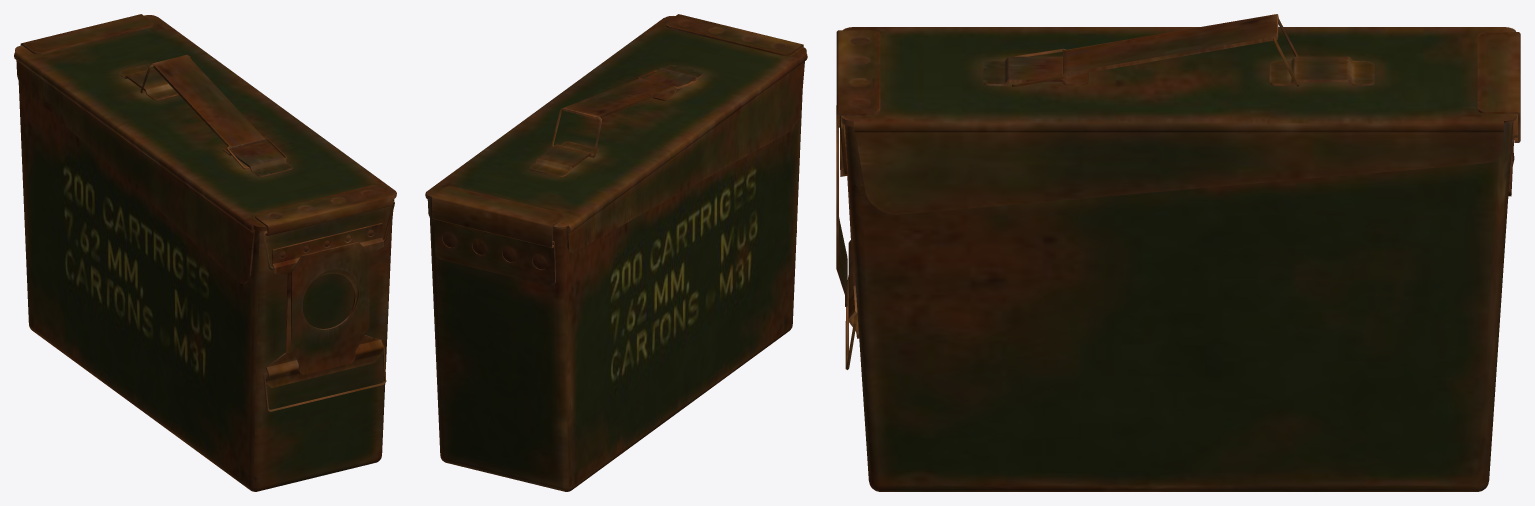
File: ammo_box.glb
The picture shows the model from 3 angles, left to right: view 1: azimuth 30°, elevation 25°; view 2: azimuth 150°, elevation 25°; view 3: azimuth 270°, elevation 25°; orthographic projection. The views are drawn at different scales.
Visible parts, largest first — view 1: ammo_box; view 2: ammo_box; view 3: ammo_box.
Boxes of the visible parts, <box> form: ammo_box: <box>14,14,396,491</box>; ammo_box: <box>425,14,807,491</box>; ammo_box: <box>836,14,1520,491</box>.
Bounding box in the file's own units: 0.0865 × 0.1775 × 0.2579.
1 material, 1 textured.
